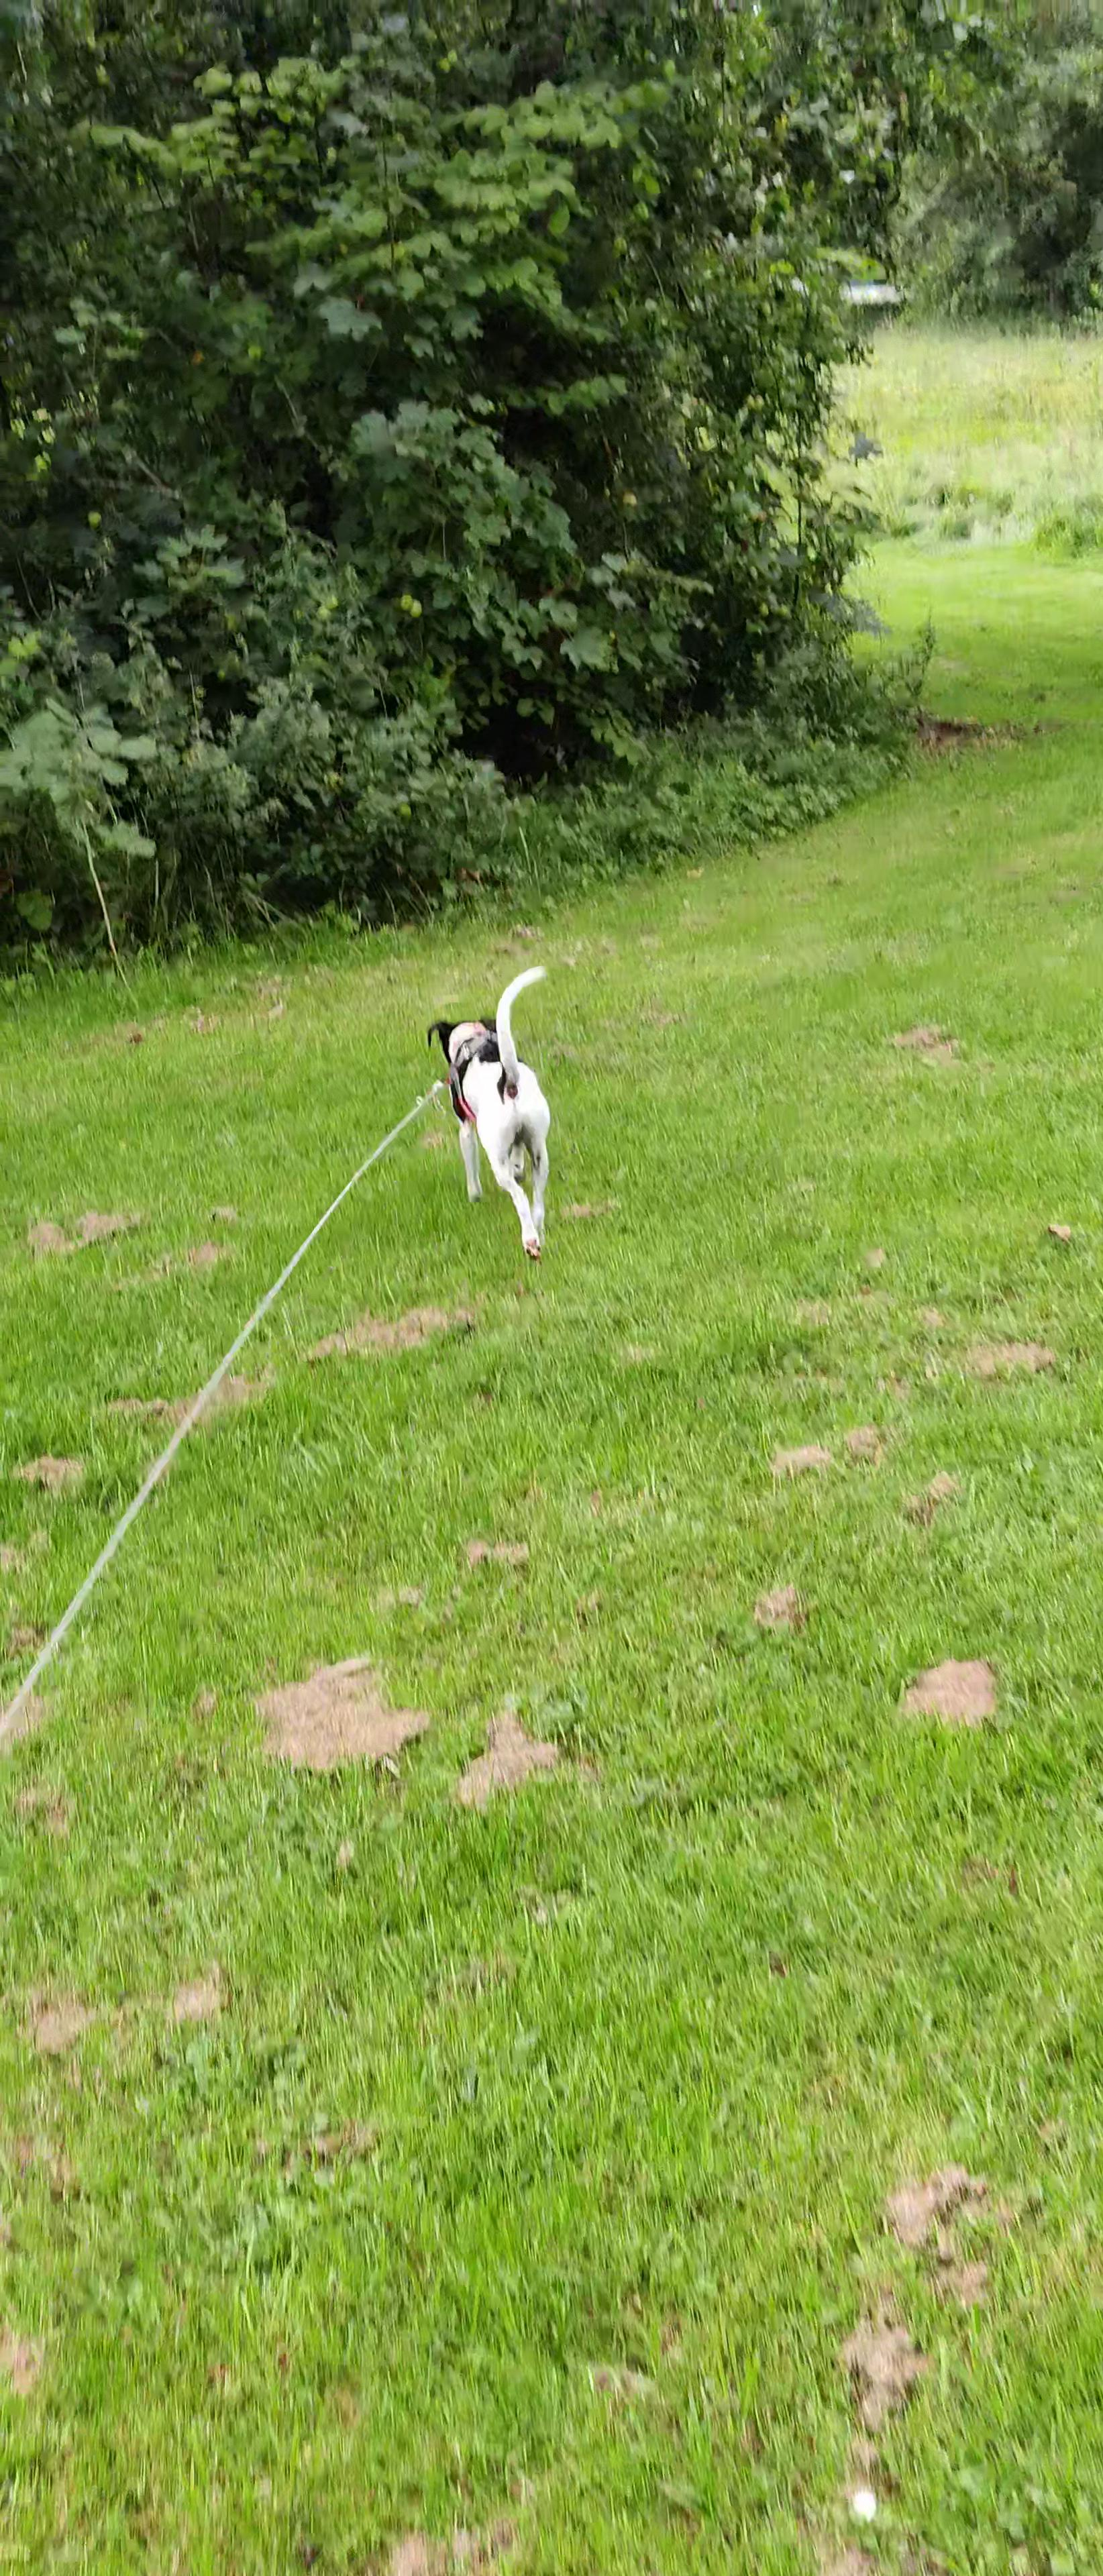Dog: (414, 946, 564, 1275)
